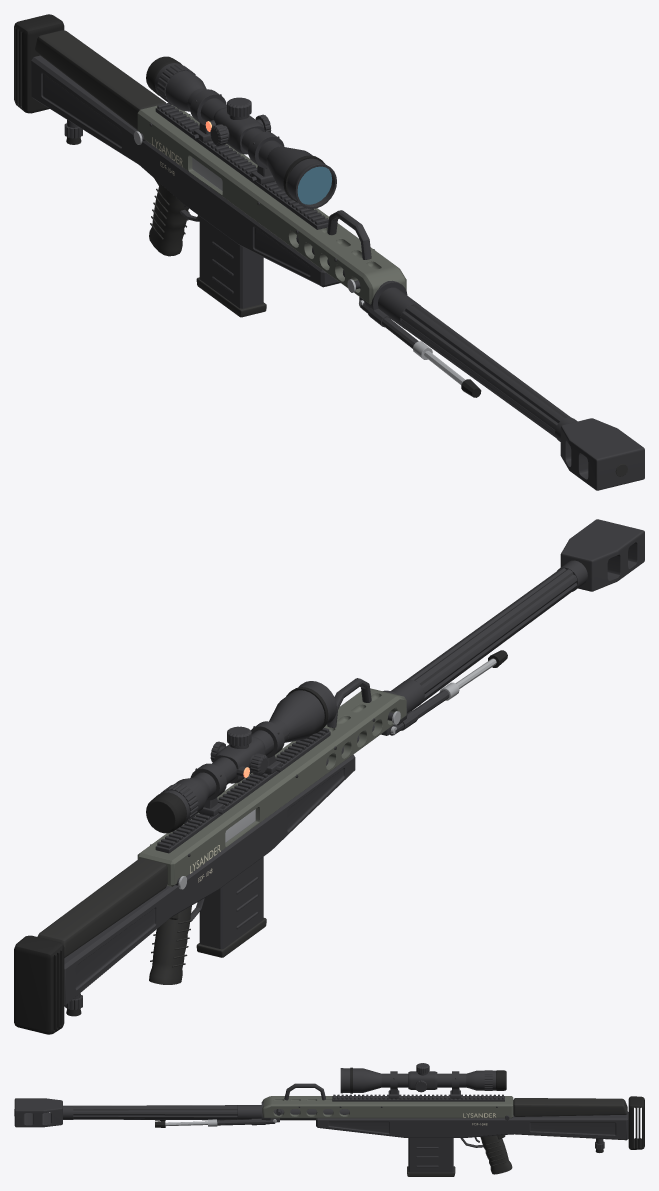
The model's file is lysander.glb.
3 renders of one model, top to bottom at view 1: azimuth 30°, elevation 25°; view 2: azimuth 150°, elevation 25°; view 3: azimuth 270°, elevation 25°, orthographic. The views are drawn at different scales.
Parts seen in each view (by area): view 1: Body; view 2: Body; view 3: Body.
Part boxes in pixels (left/top/right/bottom): Body: left=14, top=14, right=644, bottom=490; Body: left=14, top=519, right=644, bottom=1034; Body: left=14, top=1063, right=644, bottom=1176.
Size of the model in its own units: 0.0745 by 0.2913 by 1.53.
